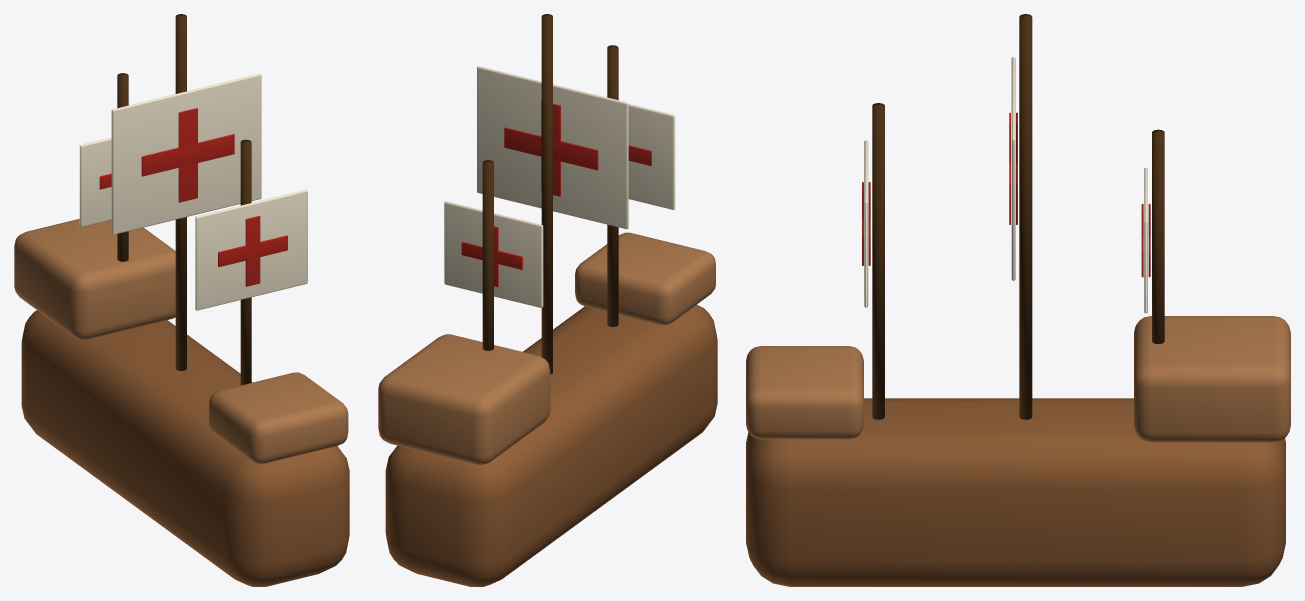
The model's file is nau.glb.
The picture shows the model from 3 angles, left to right: view 1: azimuth 30°, elevation 25°; view 2: azimuth 150°, elevation 25°; view 3: azimuth 270°, elevation 25°; orthographic projection. The views are drawn at different scales.
Visible parts, largest first — view 1: Hull, Sail_Main, Castle_Aft, Castle_Fore, Sail_Fore, Mast_Main, Sail_Mizzen, Cross_Main_Front_H, Mast_Fore, Cross_Main_Front_V, Cross_Fore_Front_H, Cross_Fore_Front_V (+1 smaller); view 2: Hull, Castle_Aft, Sail_Main, Castle_Fore, Sail_Mizzen, Sail_Fore, Mast_Main, Mast_Mizzen, Mast_Fore, Cross_Main_Back_H, Cross_Mizzen_Back_H, Cross_Main_Back_V; view 3: Hull, Castle_Aft, Castle_Fore, Mast_Main, Mast_Fore, Mast_Mizzen, Sail_Main, Sail_Fore.
Boxes of the visible parts, x1=… form: Hull: x1=21, y1=310, x2=349, y2=586; Sail_Main: x1=111, y1=73, x2=261, y2=234; Castle_Aft: x1=14, y1=219, x2=175, y2=339; Castle_Fore: x1=209, y1=372, x2=348, y2=464; Sail_Fore: x1=195, y1=189, x2=307, y2=310; Mast_Main: x1=175, y1=14, x2=186, y2=370; Sail_Mizzen: x1=79, y1=137, x2=111, y2=227; Cross_Main_Front_H: x1=141, y1=134, x2=234, y2=176; Mast_Fore: x1=240, y1=139, x2=251, y2=385; Cross_Main_Front_V: x1=178, y1=108, x2=197, y2=202; Cross_Fore_Front_H: x1=218, y1=235, x2=287, y2=266; Cross_Fore_Front_V: x1=245, y1=216, x2=260, y2=286; Hull: x1=385, y1=304, x2=717, y2=586; Castle_Aft: x1=378, y1=334, x2=550, y2=464; Sail_Main: x1=477, y1=66, x2=628, y2=229; Castle_Fore: x1=575, y1=232, x2=715, y2=325; Sail_Mizzen: x1=444, y1=201, x2=543, y2=307; Sail_Fore: x1=628, y1=104, x2=675, y2=209; Mast_Main: x1=541, y1=14, x2=552, y2=374; Mast_Mizzen: x1=482, y1=160, x2=493, y2=350; Mast_Fore: x1=607, y1=45, x2=618, y2=326; Cross_Main_Back_H: x1=504, y1=127, x2=598, y2=170; Cross_Mizzen_Back_H: x1=461, y1=242, x2=522, y2=269; Cross_Main_Back_V: x1=541, y1=102, x2=560, y2=196; Hull: x1=746, y1=398, x2=1285, y2=586; Castle_Aft: x1=1134, y1=316, x2=1290, y2=442; Castle_Fore: x1=746, y1=346, x2=863, y2=439; Mast_Main: x1=1019, y1=14, x2=1032, y2=419; Mast_Fore: x1=872, y1=103, x2=884, y2=419; Mast_Mizzen: x1=1152, y1=129, x2=1164, y2=343; Sail_Main: x1=1011, y1=57, x2=1015, y2=280; Sail_Fore: x1=864, y1=140, x2=868, y2=307.
Size of the model in its own units: 4 by 12.4 by 11.1.
